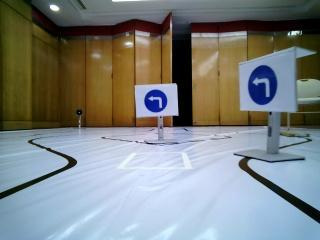left: (243, 61, 293, 113), (136, 83, 178, 117)
